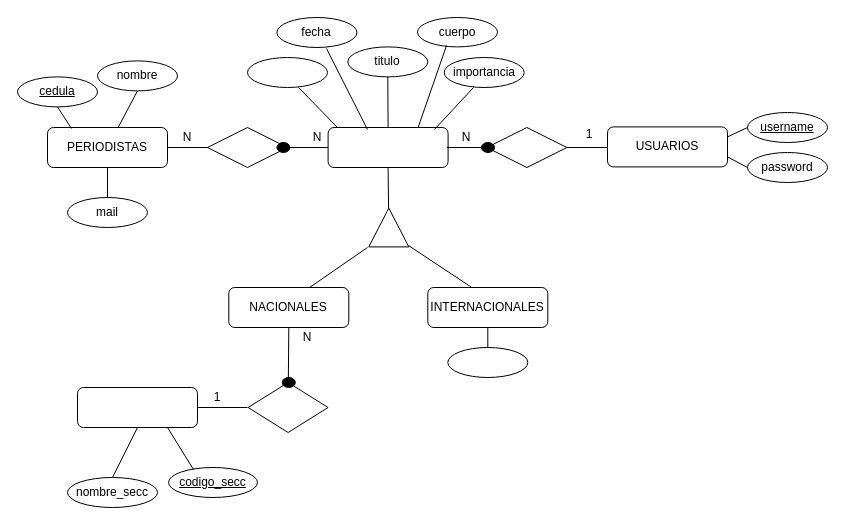
This 845x525 diagram has some shape labels left out. Each missing label, with the centre of its shape:
codigo: pixel 287 72
escriben: pixel 247 147
NOTICIAS: pixel 387 147
pais: pixel 487 362
publican: pixel 526 147
SECCIONES: pixel 137 407
tienen: pixel 287 407
